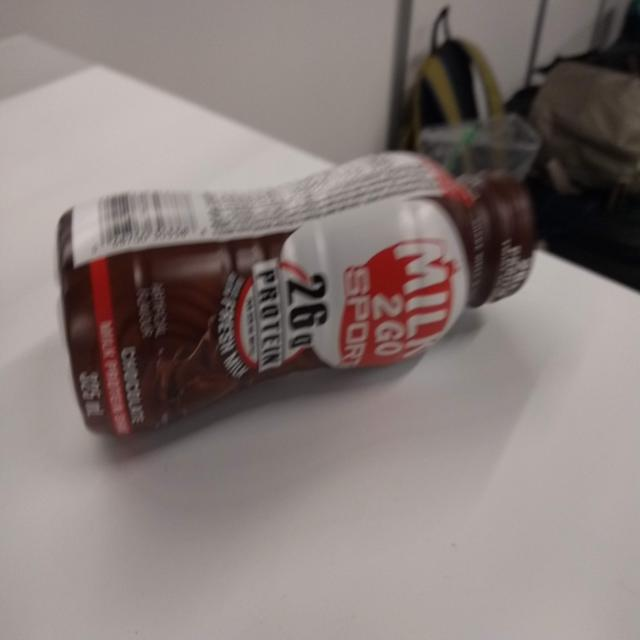chocolate_drink: (52, 150, 540, 440)
